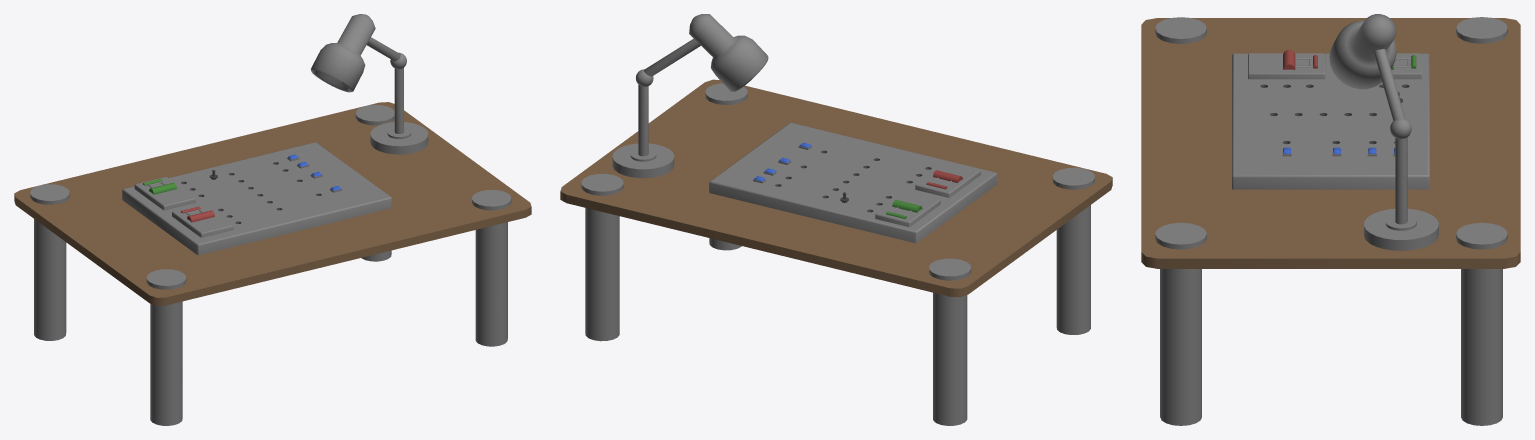
File: ElectricRoom.fbx
3 renders of one model, left to right at view 1: azimuth 30°, elevation 25°; view 2: azimuth 150°, elevation 25°; view 3: azimuth 270°, elevation 25°, orthographic. The views are drawn at different scales.
Parts seen in each view (by area): view 1: Table, Board, Lamp, LeverBaseBottom, LeverBaseTop; view 2: Table, Board, Lamp, LeverBaseBottom, LeverBaseTop; view 3: Table, Board, Lamp, LeverBaseBottom, LeverBaseTop, LeverBottom.
Part boxes in pixels (x1,y1,x2,y2): Table: (14,102,531,425); Board: (122,142,391,255); Lamp: (310,14,428,154); LeverBaseBottom: (172,204,233,237); LeverBaseTop: (134,177,195,210); Table: (560,79,1112,425); Board: (709,122,997,243); Lamp: (612,14,768,178); LeverBaseBottom: (915,162,980,197); LeverBaseTop: (875,191,940,226); Table: (1141,17,1520,425); Board: (1232,53,1429,189); Lamp: (1329,14,1438,250); LeverBaseBottom: (1248,53,1325,79); LeverBaseTop: (1391,53,1421,79); LeverBottom: (1283,49,1317,69).
Size of what is drawn, in the model's own units: 150 by 106 by 100.
